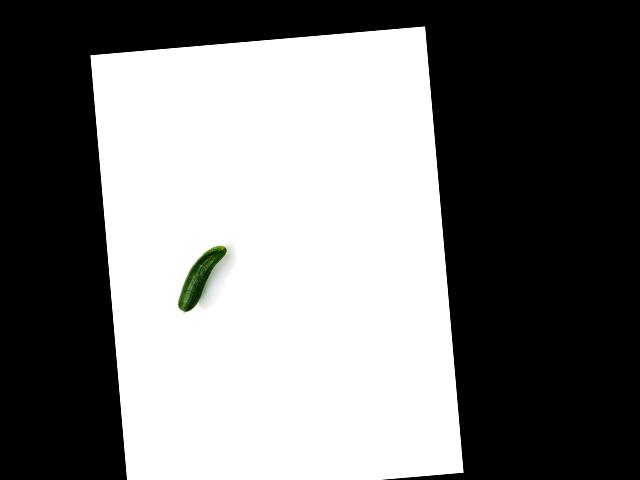cucumber: (173, 245, 231, 312)
